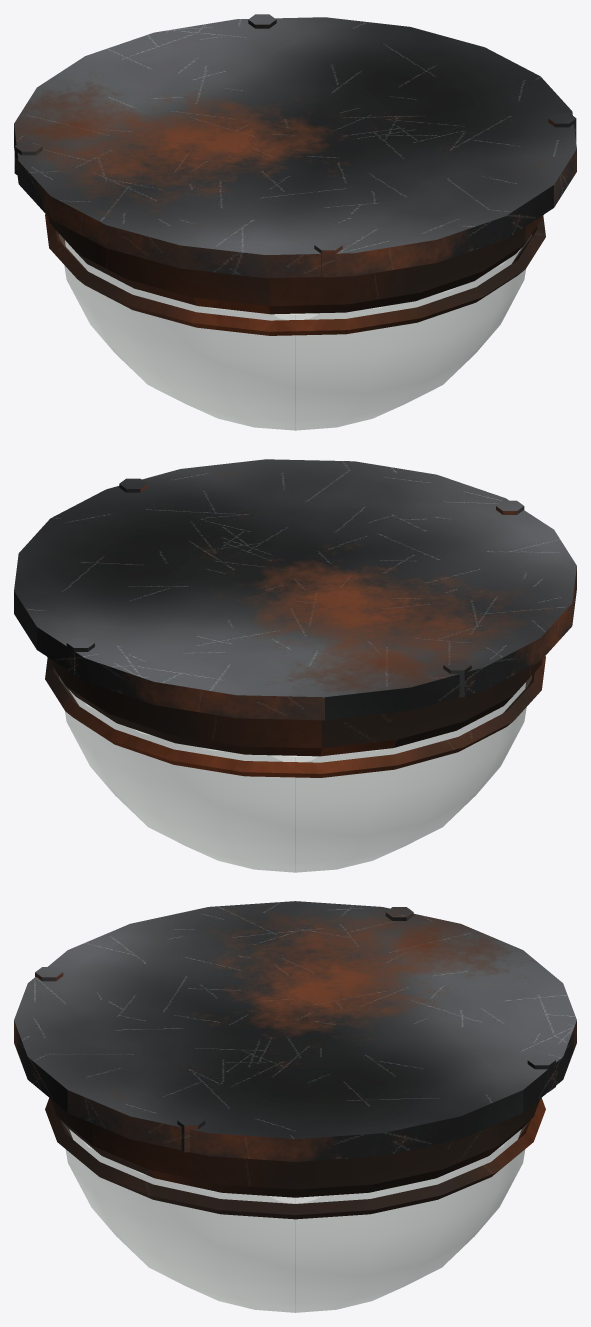
Rendered from light_ceiling_lamp.glb.
3 renders of one model, top to bottom at view 1: azimuth 30°, elevation 25°; view 2: azimuth 150°, elevation 25°; view 3: azimuth 270°, elevation 25°, orthographic.
Parts seen in each view (by area): view 1: Body, Glass, Rust; view 2: Body, Glass, Rust; view 3: Body, Glass, Rust.
Boxes of the visible parts, x1=… form: Body: x1=14, y1=14, x2=576, y2=278; Glass: x1=59, y1=234, x2=531, y2=430; Rust: x1=45, y1=214, x2=545, y2=335; Body: x1=14, y1=459, x2=576, y2=720; Glass: x1=59, y1=676, x2=531, y2=872; Rust: x1=45, y1=656, x2=545, y2=777; Body: x1=14, y1=901, x2=576, y2=1161; Glass: x1=62, y1=1122, x2=528, y2=1312; Rust: x1=45, y1=1098, x2=545, y2=1219.
Bounding box in the file's own units: 0.4 × 0.213 × 0.4.
4 materials, 2 textured.
